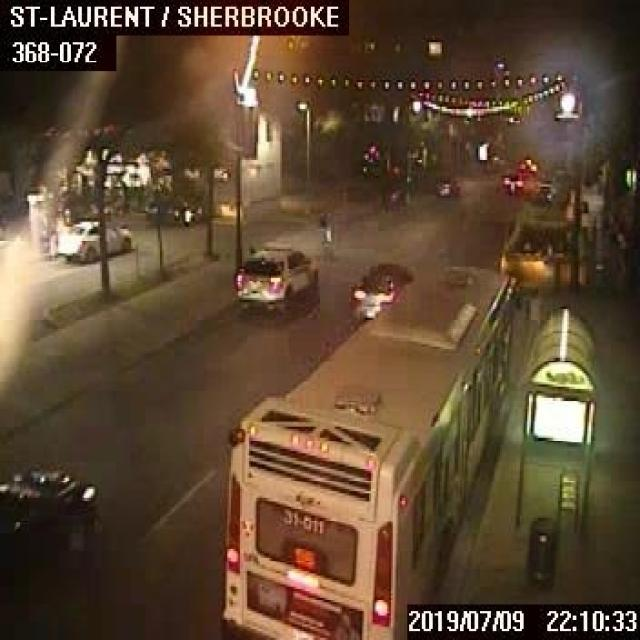bus: (221, 260, 520, 638)
pedestrian: (316, 211, 333, 256)
vehicle: (0, 460, 102, 593), (231, 240, 320, 311), (347, 261, 411, 316), (55, 217, 130, 261), (144, 192, 200, 225), (500, 170, 528, 193), (433, 174, 459, 197), (517, 155, 537, 176), (534, 182, 554, 201)
